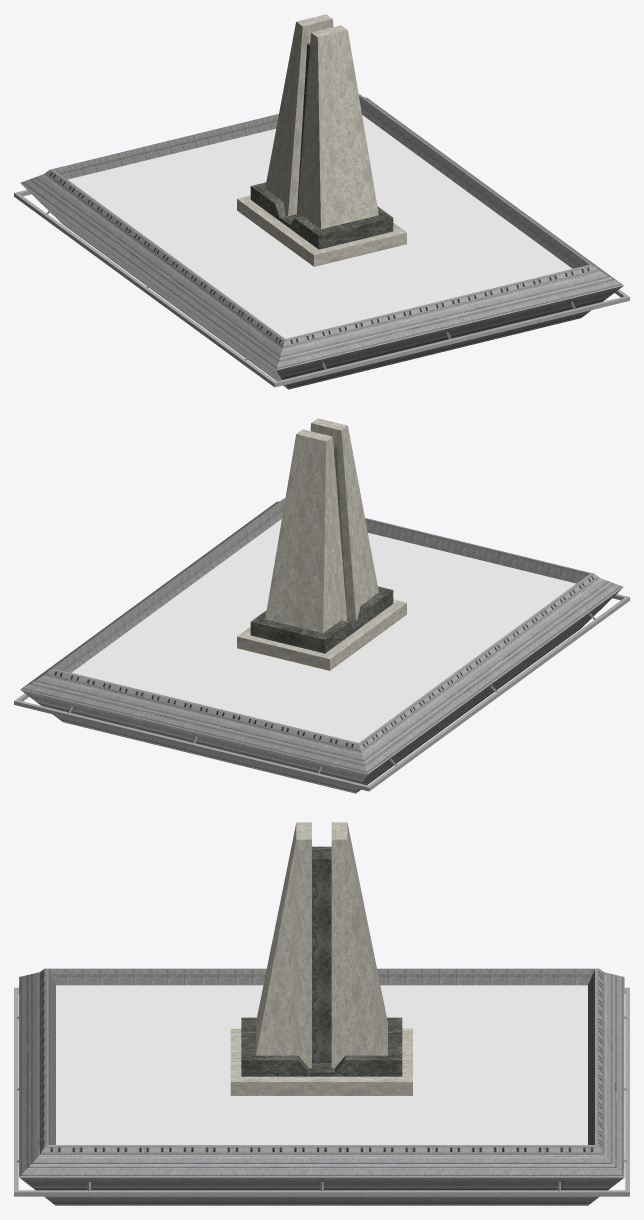
Rendered from thm_corl_fountain_rectangle_s01_l1.fbx.
3 renders of one model, top to bottom at view 1: azimuth 30°, elevation 25°; view 2: azimuth 150°, elevation 25°; view 3: azimuth 270°, elevation 25°, orthographic. The views are drawn at different scales.
Parts seen in each view (by area): view 1: mesh_node; view 2: mesh_node; view 3: mesh_node.
Part boxes in pixels (x1,y1,x2,y2): mesh_node: (14, 14, 629, 389); mesh_node: (14, 418, 629, 793); mesh_node: (14, 822, 629, 1205).
Bounding box in the file's own units: 7.14 × 4.71 × 9.07.
